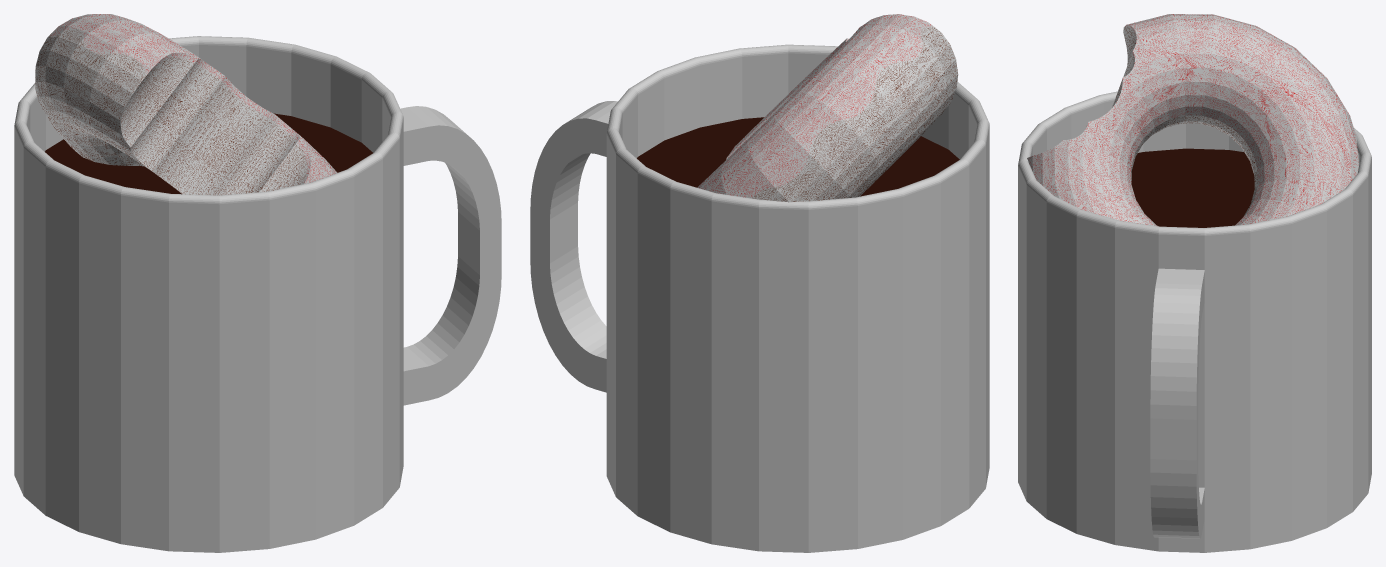
The picture shows the model from 3 angles, left to right: view 1: azimuth 30°, elevation 25°; view 2: azimuth 150°, elevation 25°; view 3: azimuth 270°, elevation 25°; orthographic projection. The views are drawn at different scales.
Parts seen in each view (by area): view 1: mesh2_mesh2-geometry, mesh8_mesh8-geometry, mesh1_mesh1-geometry; view 2: mesh2_mesh2-geometry, mesh8_mesh8-geometry, mesh1_mesh1-geometry; view 3: mesh2_mesh2-geometry, mesh8_mesh8-geometry, mesh1_mesh1-geometry.
Boxes of the visible parts, bbox=[...] form: mesh2_mesh2-geometry: bbox=[14, 36, 403, 552]; mesh8_mesh8-geometry: bbox=[35, 14, 337, 195]; mesh1_mesh1-geometry: bbox=[400, 106, 501, 405]; mesh2_mesh2-geometry: bbox=[606, 44, 989, 552]; mesh8_mesh8-geometry: bbox=[697, 14, 958, 202]; mesh1_mesh1-geometry: bbox=[530, 101, 617, 392]; mesh2_mesh2-geometry: bbox=[1018, 91, 1371, 552]; mesh8_mesh8-geometry: bbox=[1027, 14, 1359, 226]; mesh1_mesh1-geometry: bbox=[1150, 268, 1204, 538].
Size of the model in its own units: 0.6197 by 0.625 by 0.4748.
